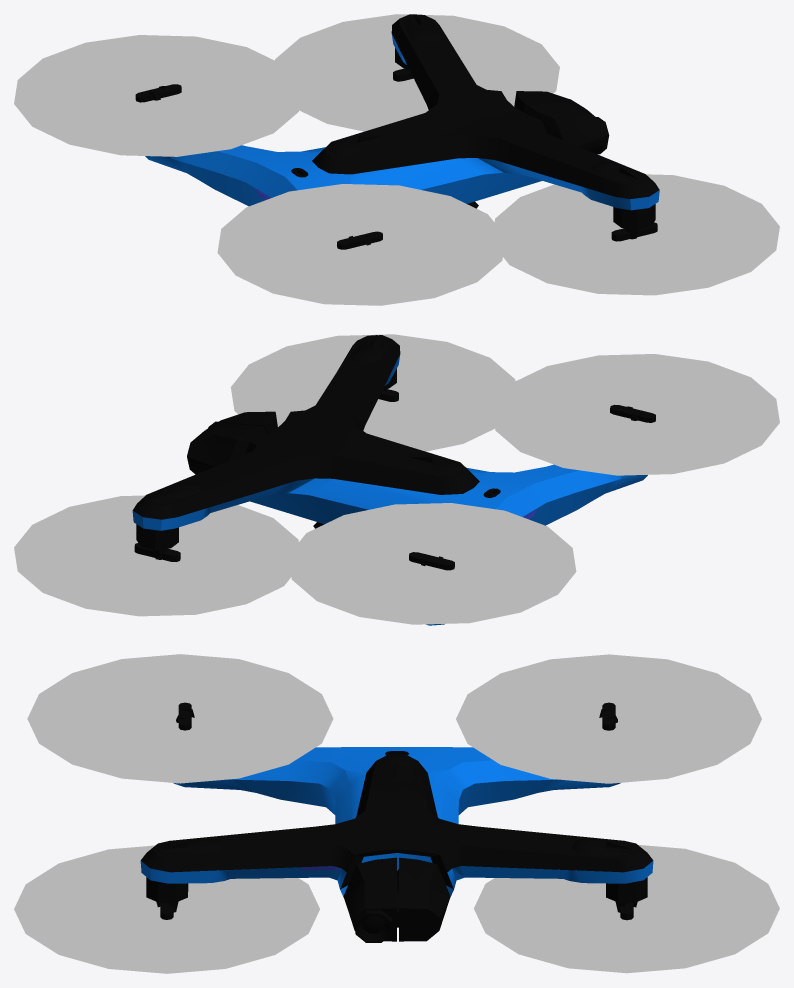
File: Skydio 2 - 1000 Poly.obj
3 views of the same model, one above another, from view 1: azimuth 30°, elevation 25°; view 2: azimuth 150°, elevation 25°; view 3: azimuth 270°, elevation 25° (orthographic). The views are drawn at different scales.
Visible parts, largest first — view 1: 002_CirclePlane_1, 000_CirclePlane, 003_CirclePlane_2, 008_Cylinder026_-_baked, 001_CirclePlane_3, 009_Cylinder026_-_baked_1, 012_Object002_-_baked, 017_Cylinder040_-_baked, 013_Cylinder036_-_baked, 011_Cylinder030_-_baked, 007_Cylinder024_-_baked, 018_Object003_-_baked (+1 smaller); view 2: 002_CirclePlane_1, 000_CirclePlane, 001_CirclePlane_3, 008_Cylinder026_-_baked, 003_CirclePlane_2, 009_Cylinder026_-_baked_1, 018_Object003_-_baked, 017_Cylinder040_-_baked, 013_Cylinder036_-_baked, 011_Cylinder030_-_baked, 007_Cylinder024_-_baked, 012_Object002_-_baked (+1 smaller); view 3: 002_CirclePlane_1, 000_CirclePlane, 003_CirclePlane_2, 001_CirclePlane_3, 008_Cylinder026_-_baked, 009_Cylinder026_-_baked_1, 018_Object003_-_baked, 012_Object002_-_baked, 017_Cylinder040_-_baked, 013_Cylinder036_-_baked, 006_Cylinder023_-_baked, 007_Cylinder024_-_baked (+1 smaller).
Part boxes in pixels (left/top/right/bottom): 002_CirclePlane_1: left=217, top=184, right=505, bottom=305; 000_CirclePlane: left=14, top=35, right=302, bottom=156; 003_CirclePlane_2: left=494, top=174, right=779, bottom=295; 008_Cylinder026_-_baked: left=312, top=14, right=659, bottom=199; 001_CirclePlane_3: left=275, top=14, right=559, bottom=131; 009_Cylinder026_-_baked_1: left=145, top=34, right=659, bottom=210; 012_Object002_-_baked: left=524, top=102, right=605, bottom=153; 017_Cylinder040_-_baked: left=401, top=14, right=645, bottom=183; 013_Cylinder036_-_baked: left=395, top=48, right=655, bottom=239; 011_Cylinder030_-_baked: left=135, top=84, right=382, bottom=249; 007_Cylinder024_-_baked: left=327, top=133, right=387, bottom=154; 018_Object003_-_baked: left=514, top=91, right=585, bottom=112; 002_CirclePlane_1: left=492, top=354, right=779, bottom=475; 000_CirclePlane: left=288, top=503, right=576, bottom=624; 001_CirclePlane_3: left=14, top=495, right=298, bottom=616; 008_Cylinder026_-_baked: left=132, top=335, right=479, bottom=519; 003_CirclePlane_2: left=230, top=334, right=515, bottom=451; 009_Cylinder026_-_baked_1: left=132, top=354, right=647, bottom=625; 018_Object003_-_baked: left=187, top=423, right=266, bottom=474; 017_Cylinder040_-_baked: left=146, top=335, right=390, bottom=503; 013_Cylinder036_-_baked: left=136, top=368, right=396, bottom=559; 011_Cylinder030_-_baked: left=409, top=404, right=655, bottom=570; 007_Cylinder024_-_baked: left=404, top=454, right=464, bottom=475; 012_Object002_-_baked: left=206, top=411, right=277, bottom=433; 002_CirclePlane_1: left=27, top=654, right=333, bottom=783; 000_CirclePlane: left=456, top=654, right=761, bottom=783; 003_CirclePlane_2: left=14, top=845, right=319, bottom=973; 001_CirclePlane_3: left=474, top=845, right=779, bottom=973; 008_Cylinder026_-_baked: left=141, top=753, right=653, bottom=889; 009_Cylinder026_-_baked_1: left=140, top=747, right=653, bottom=897; 018_Object003_-_baked: left=399, top=857, right=450, bottom=941; 012_Object002_-_baked: left=343, top=857, right=396, bottom=941; 017_Cylinder040_-_baked: left=155, top=837, right=638, bottom=857; 013_Cylinder036_-_baked: left=146, top=877, right=647, bottom=912; 006_Cylinder023_-_baked: left=355, top=910, right=392, bottom=942; 007_Cylinder024_-_baked: left=380, top=753, right=413, bottom=781.
Bounding box in the file's own units: 133 × 29.76 × 161.
